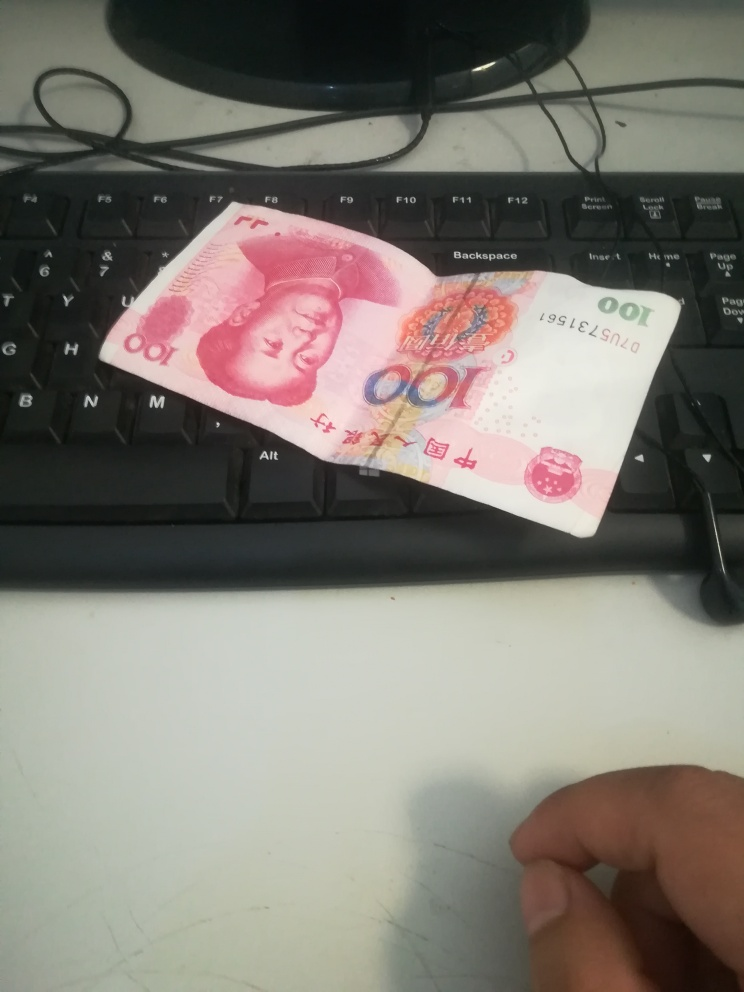rmb: (94, 201, 690, 540)
